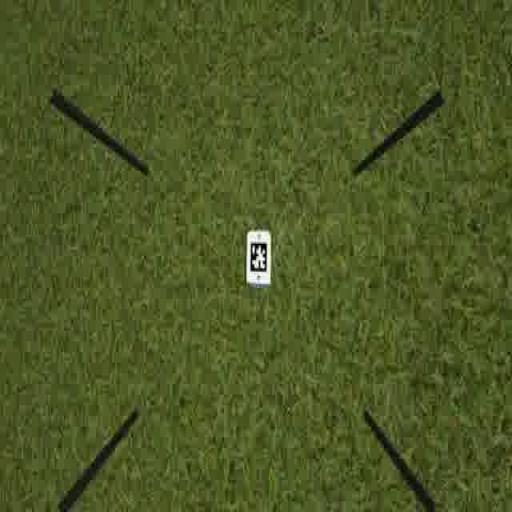UGV: (244, 229, 274, 294)
